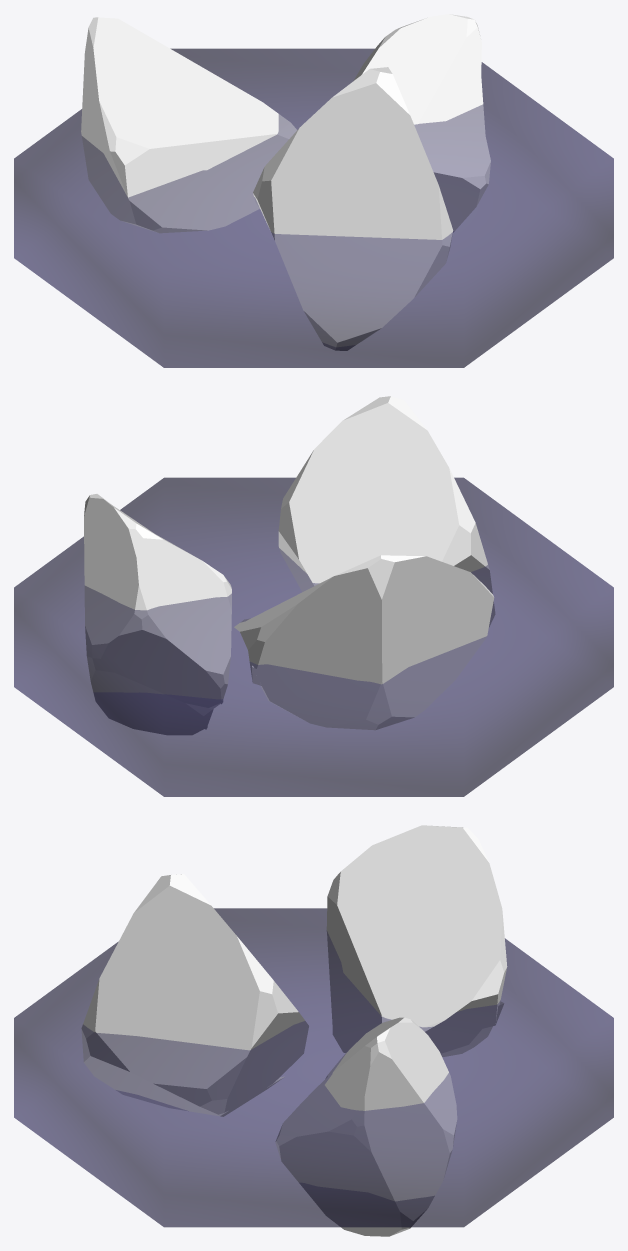
Rendered from HexCell_Arctic_1.glb.
The picture shows the model from 3 angles, top to bottom: view 1: azimuth 30°, elevation 25°; view 2: azimuth 150°, elevation 25°; view 3: azimuth 270°, elevation 25°; orthographic projection.
Parts seen in each view (by area): view 1: HexCell_Arctic_1; view 2: HexCell_Arctic_1; view 3: HexCell_Arctic_1.
Part boxes in pixels (x1,y1,x2,y2): HexCell_Arctic_1: (14, 14, 613, 367); HexCell_Arctic_1: (14, 396, 613, 796); HexCell_Arctic_1: (14, 825, 613, 1236).
Bounding box in the file's own units: 1.73 × 1.1 × 2.
